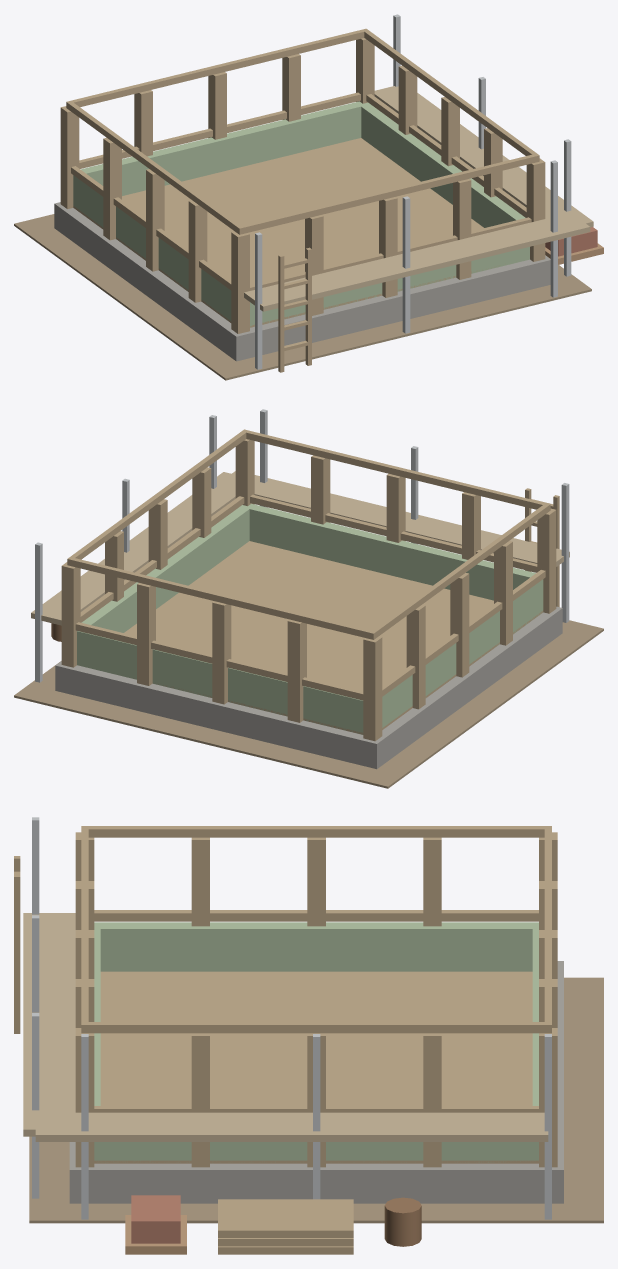
File: bloom_garden_site_5.glb
The picture shows the model from 3 angles, top to bottom: view 1: azimuth 30°, elevation 25°; view 2: azimuth 150°, elevation 25°; view 3: azimuth 270°, elevation 25°; orthographic projection. The views are drawn at different scales.
Visible parts, largest first — view 1: body; view 2: body; view 3: body.
Part boxes in pixels (x1,y1,x2,y2): body: (14,14,603,380); body: (14,409,603,788); body: (14,817,603,1254).
Size of the model in its own units: 2.1 by 0.6617 by 1.91.
